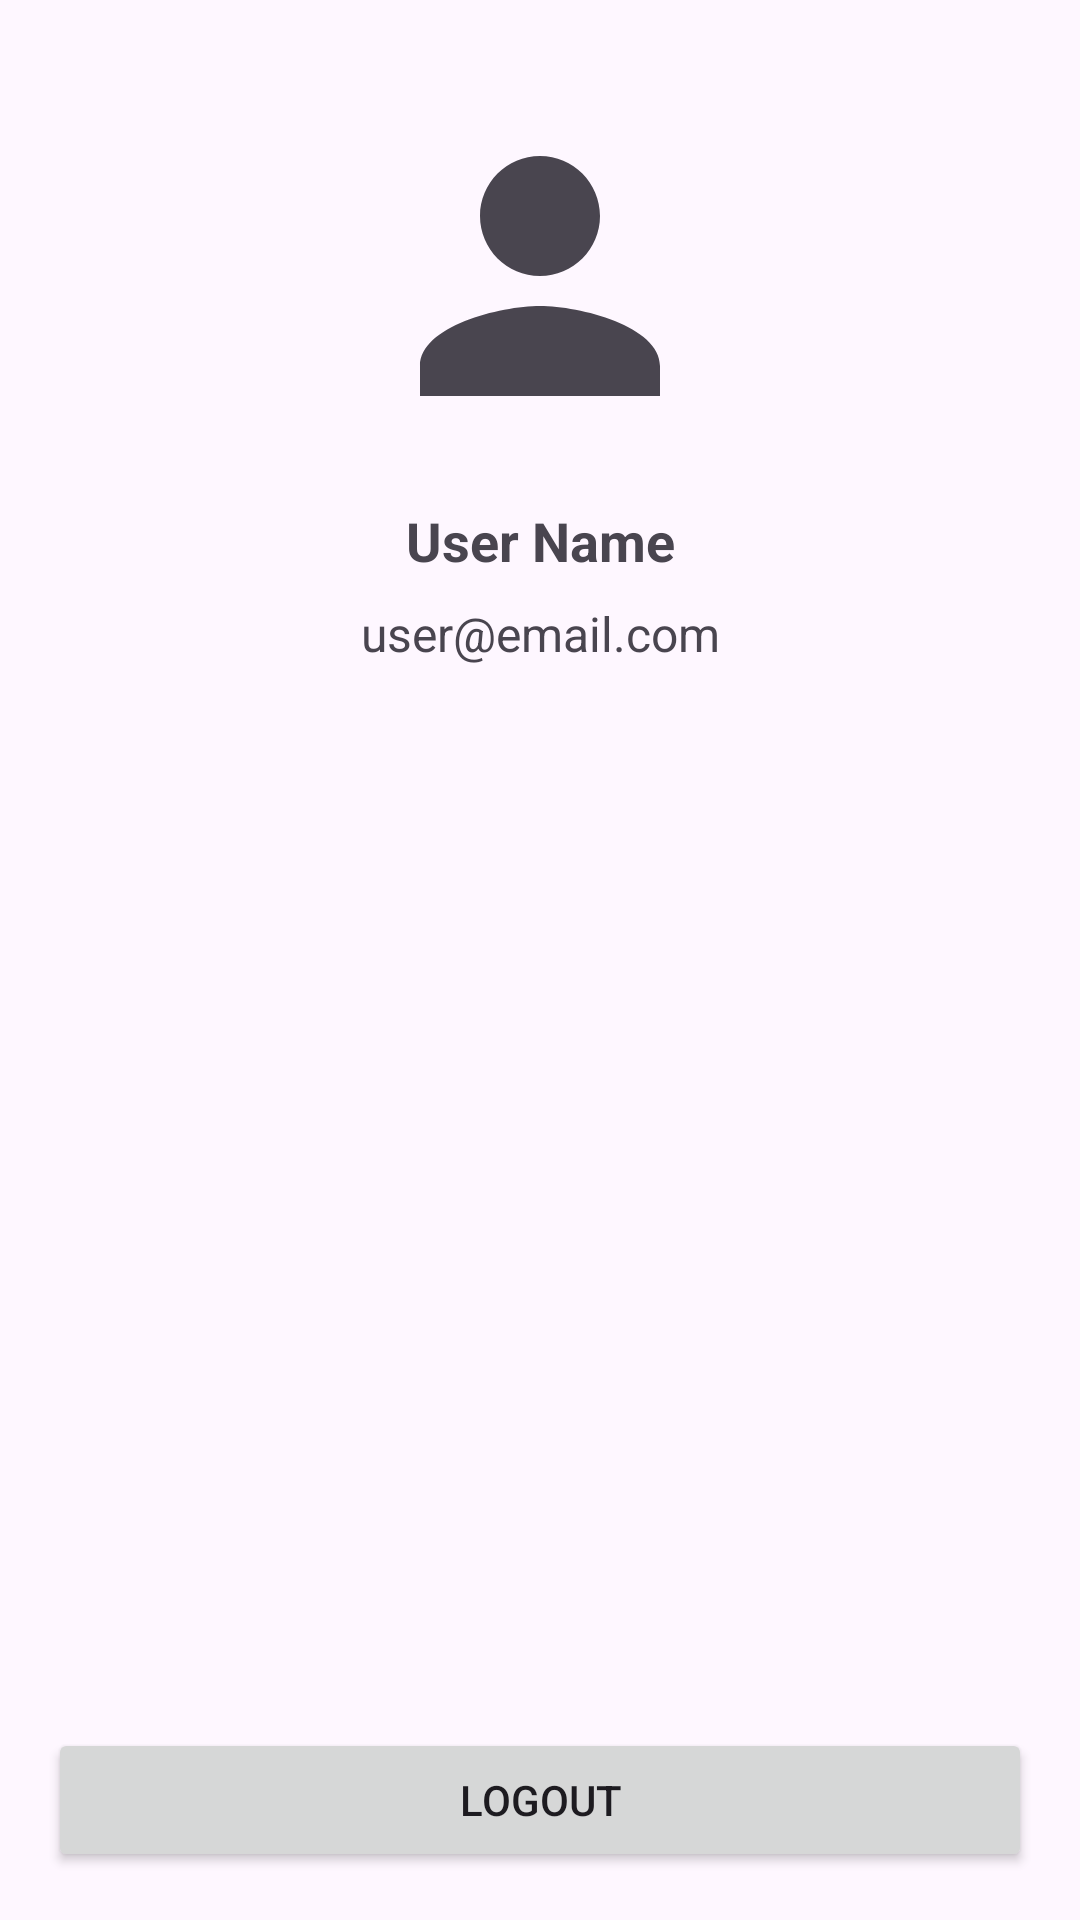

Point at icon controls on the screen. Image size 1080w x 1920h, points as (x,y).
Profile Picture: (540,276)
